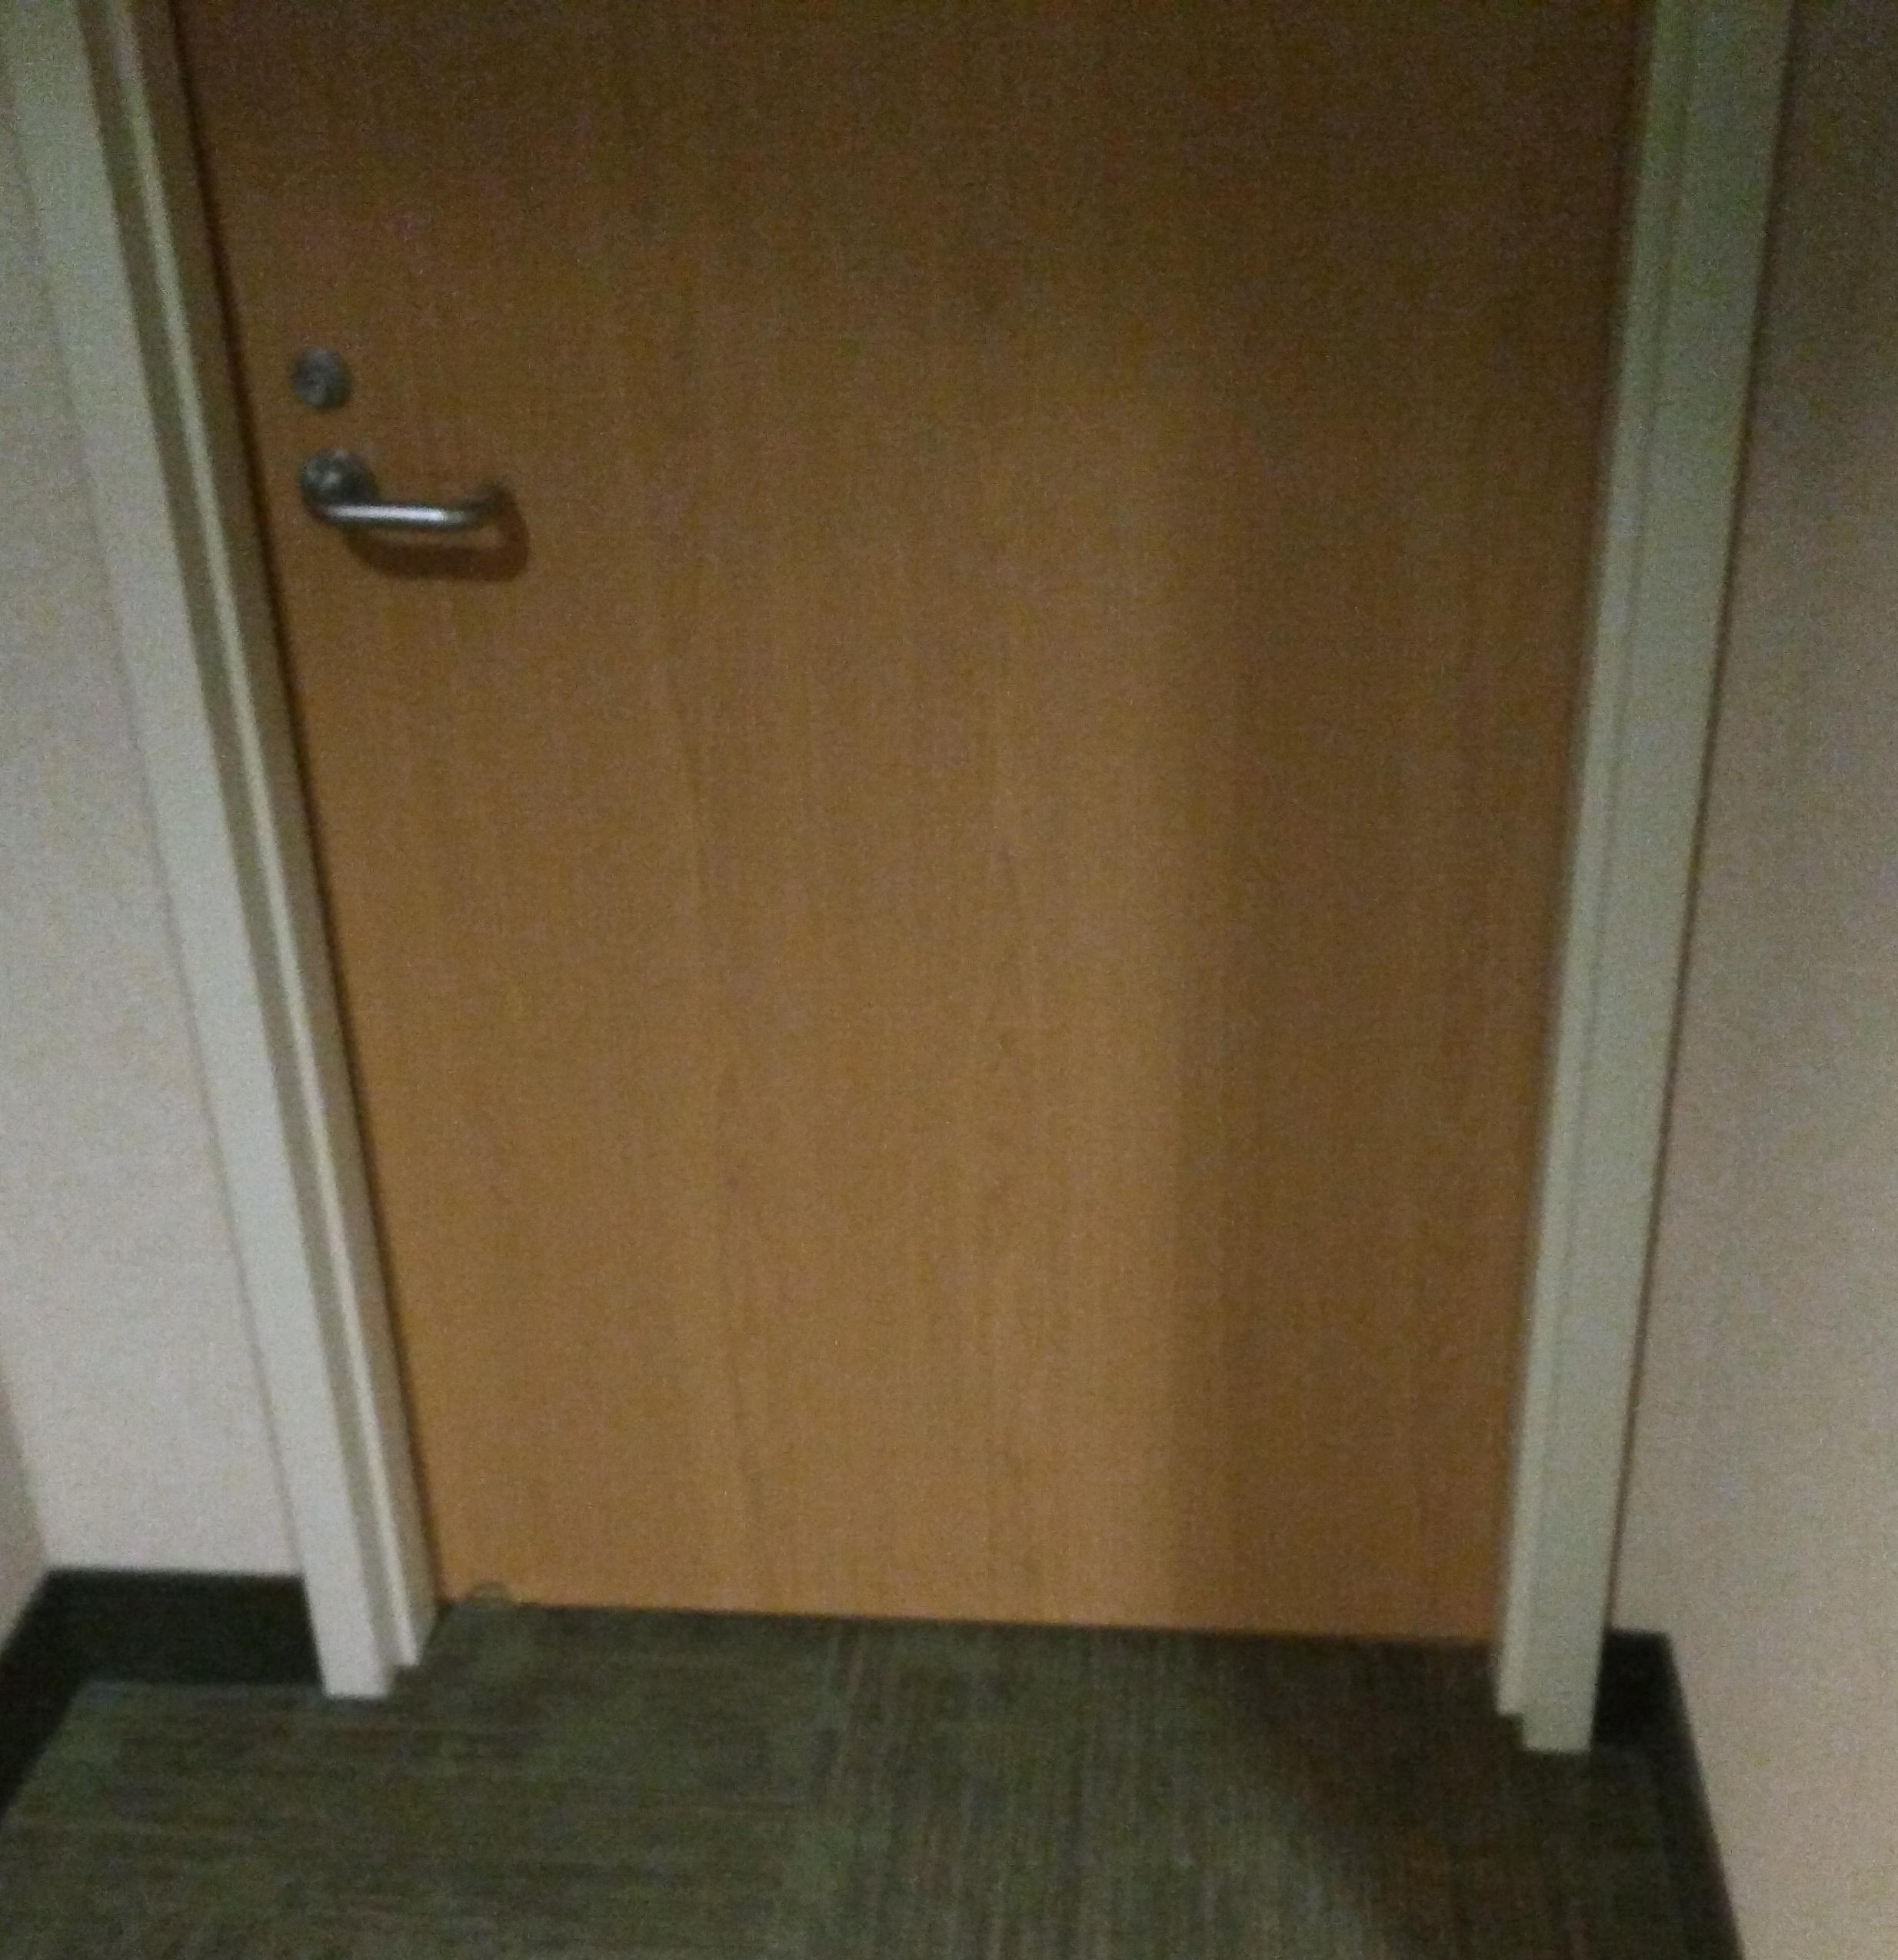door: (163, 0, 1574, 1683)
